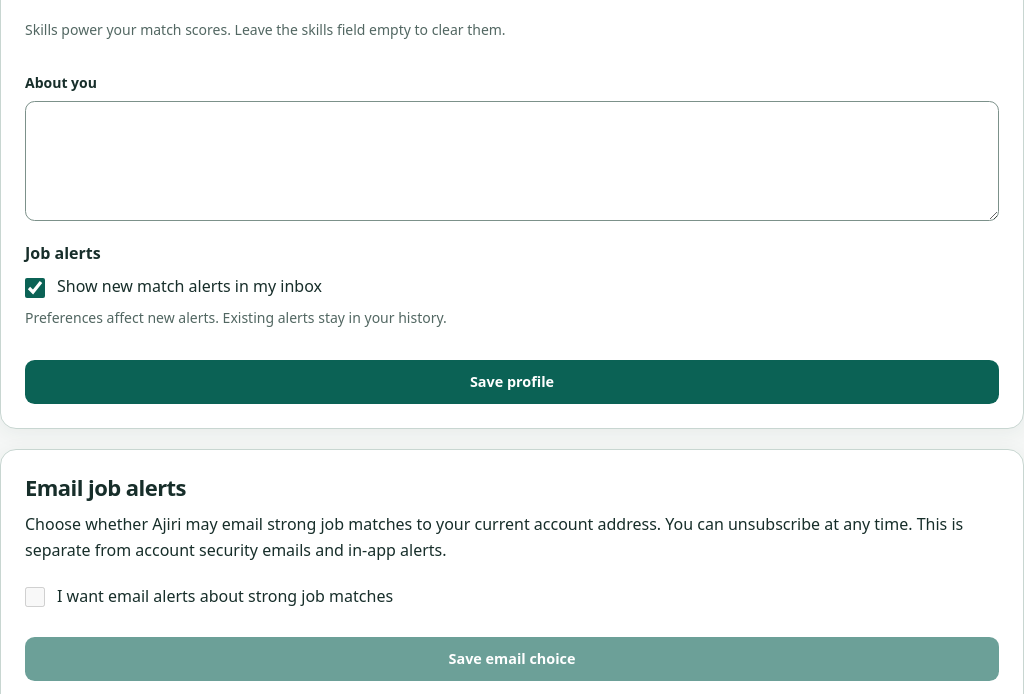
Scenario: renders all server errors and preserves entered values
(page scrolled)
Step 1. Click the button "Save profile" → (512, 382), box [25,360,999,404]
(page scrolled)
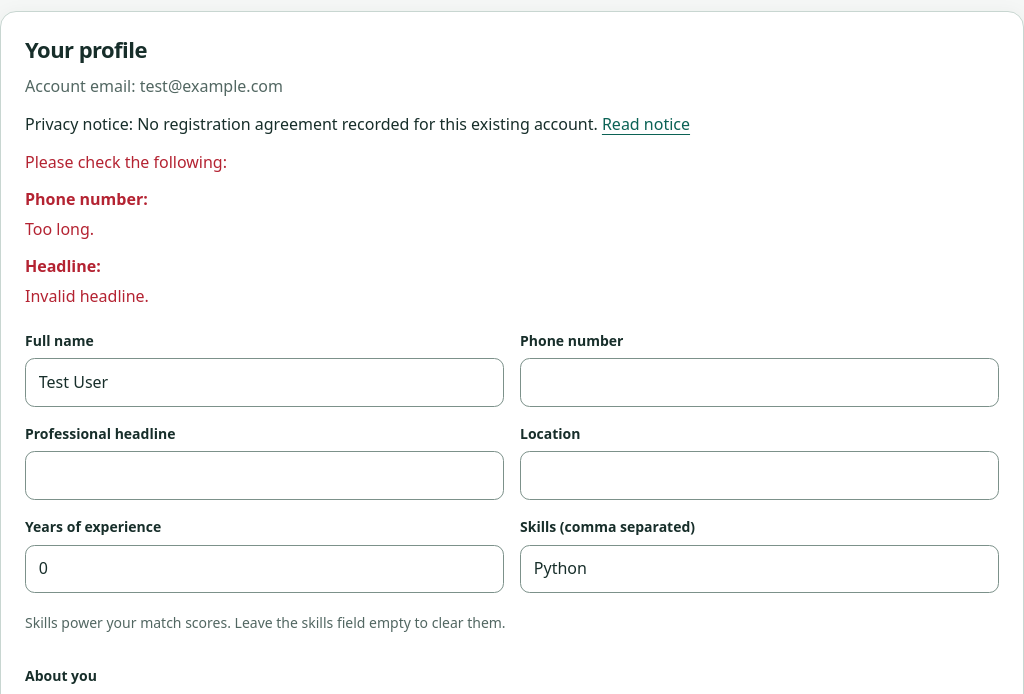
Expected: the field labelled "Full name" holds "Test User", [25,358,504,407]
Result: the message shows "Too long." at [25,218,94,240]
Result: the message shows "Invalid headline." at [25,285,149,307]
